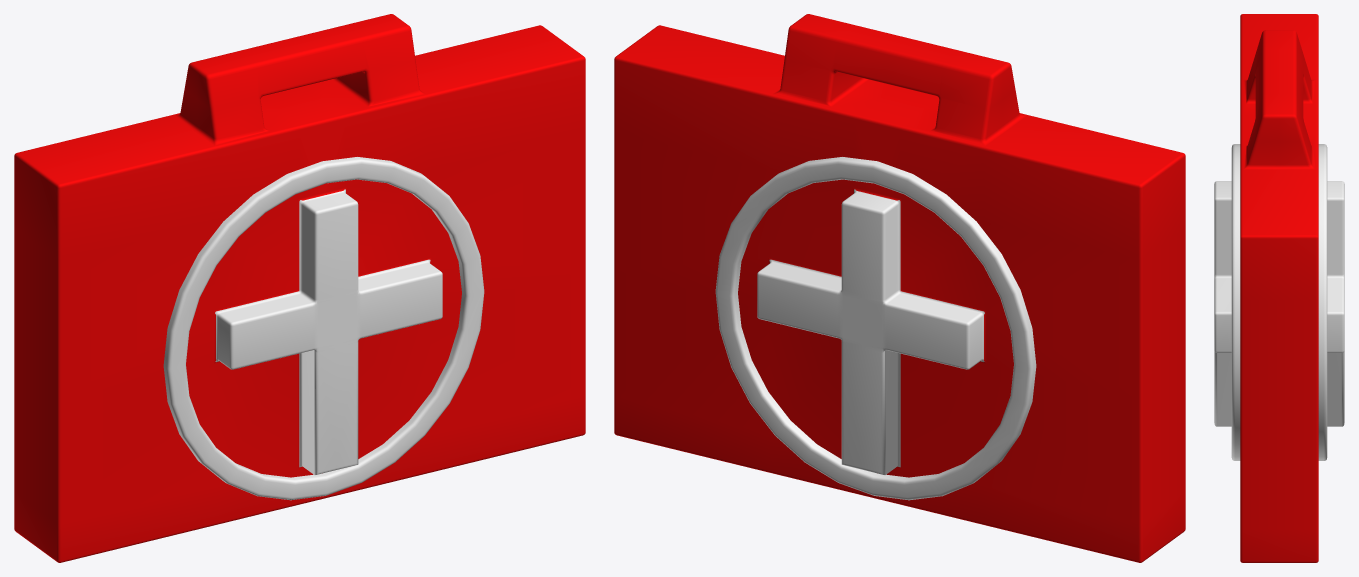
The model's file is Medikit.fbx.
3 renders of one model, left to right at view 1: azimuth 30°, elevation 25°; view 2: azimuth 150°, elevation 25°; view 3: azimuth 270°, elevation 25°, orthographic. The views are drawn at different scales.
Visible parts, largest first — view 1: Medikit; view 2: Medikit; view 3: Medikit.
Part boxes in pixels (box(x1,y1,x2,y2)): Medikit: box(14, 14, 585, 562); Medikit: box(614, 14, 1185, 562); Medikit: box(1214, 14, 1344, 562).
Size of the model in its own units: 0.7298 by 0.58 by 0.1799.
